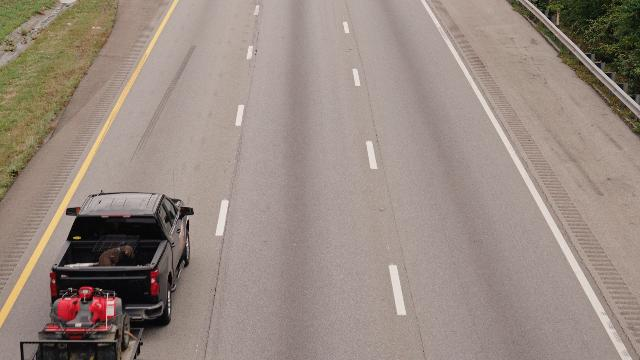pickup-truck: (21, 187, 198, 360)
